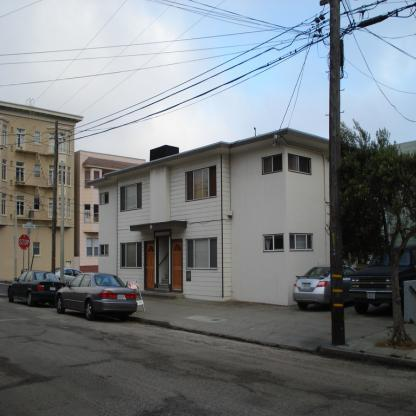car: (348, 244, 416, 316), (53, 271, 138, 321), (291, 264, 357, 312), (6, 270, 66, 306), (54, 268, 83, 284)
